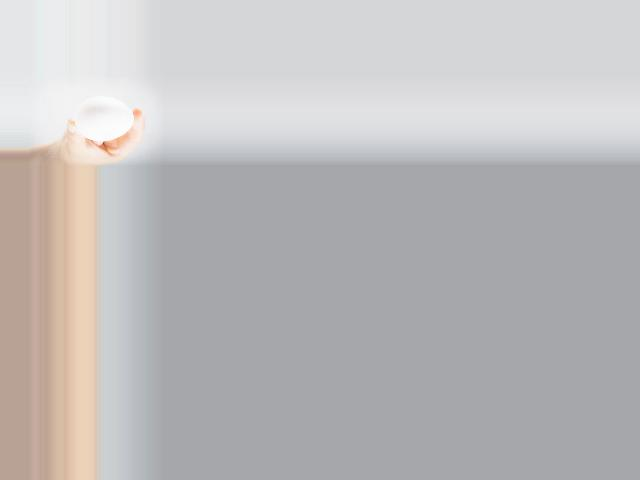egg: (75, 97, 134, 139)
